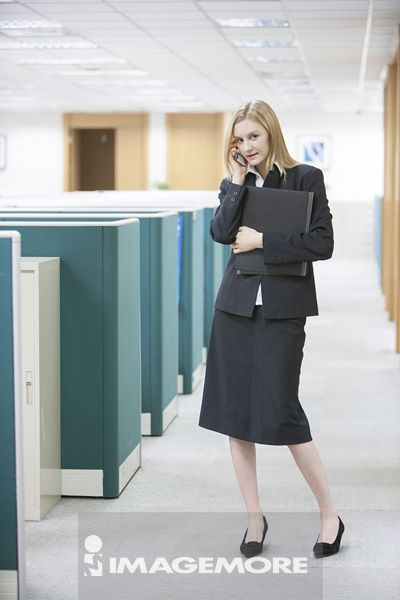talk: (229, 132, 264, 182)
